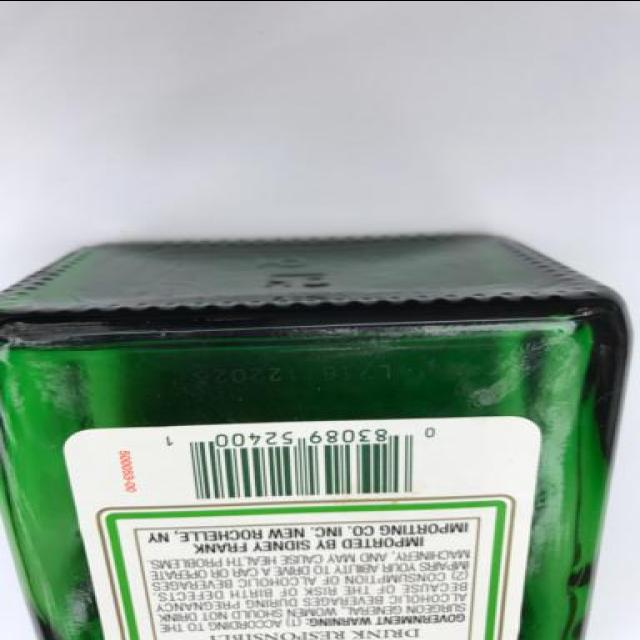Glass Bottle: (1, 232, 636, 640)
